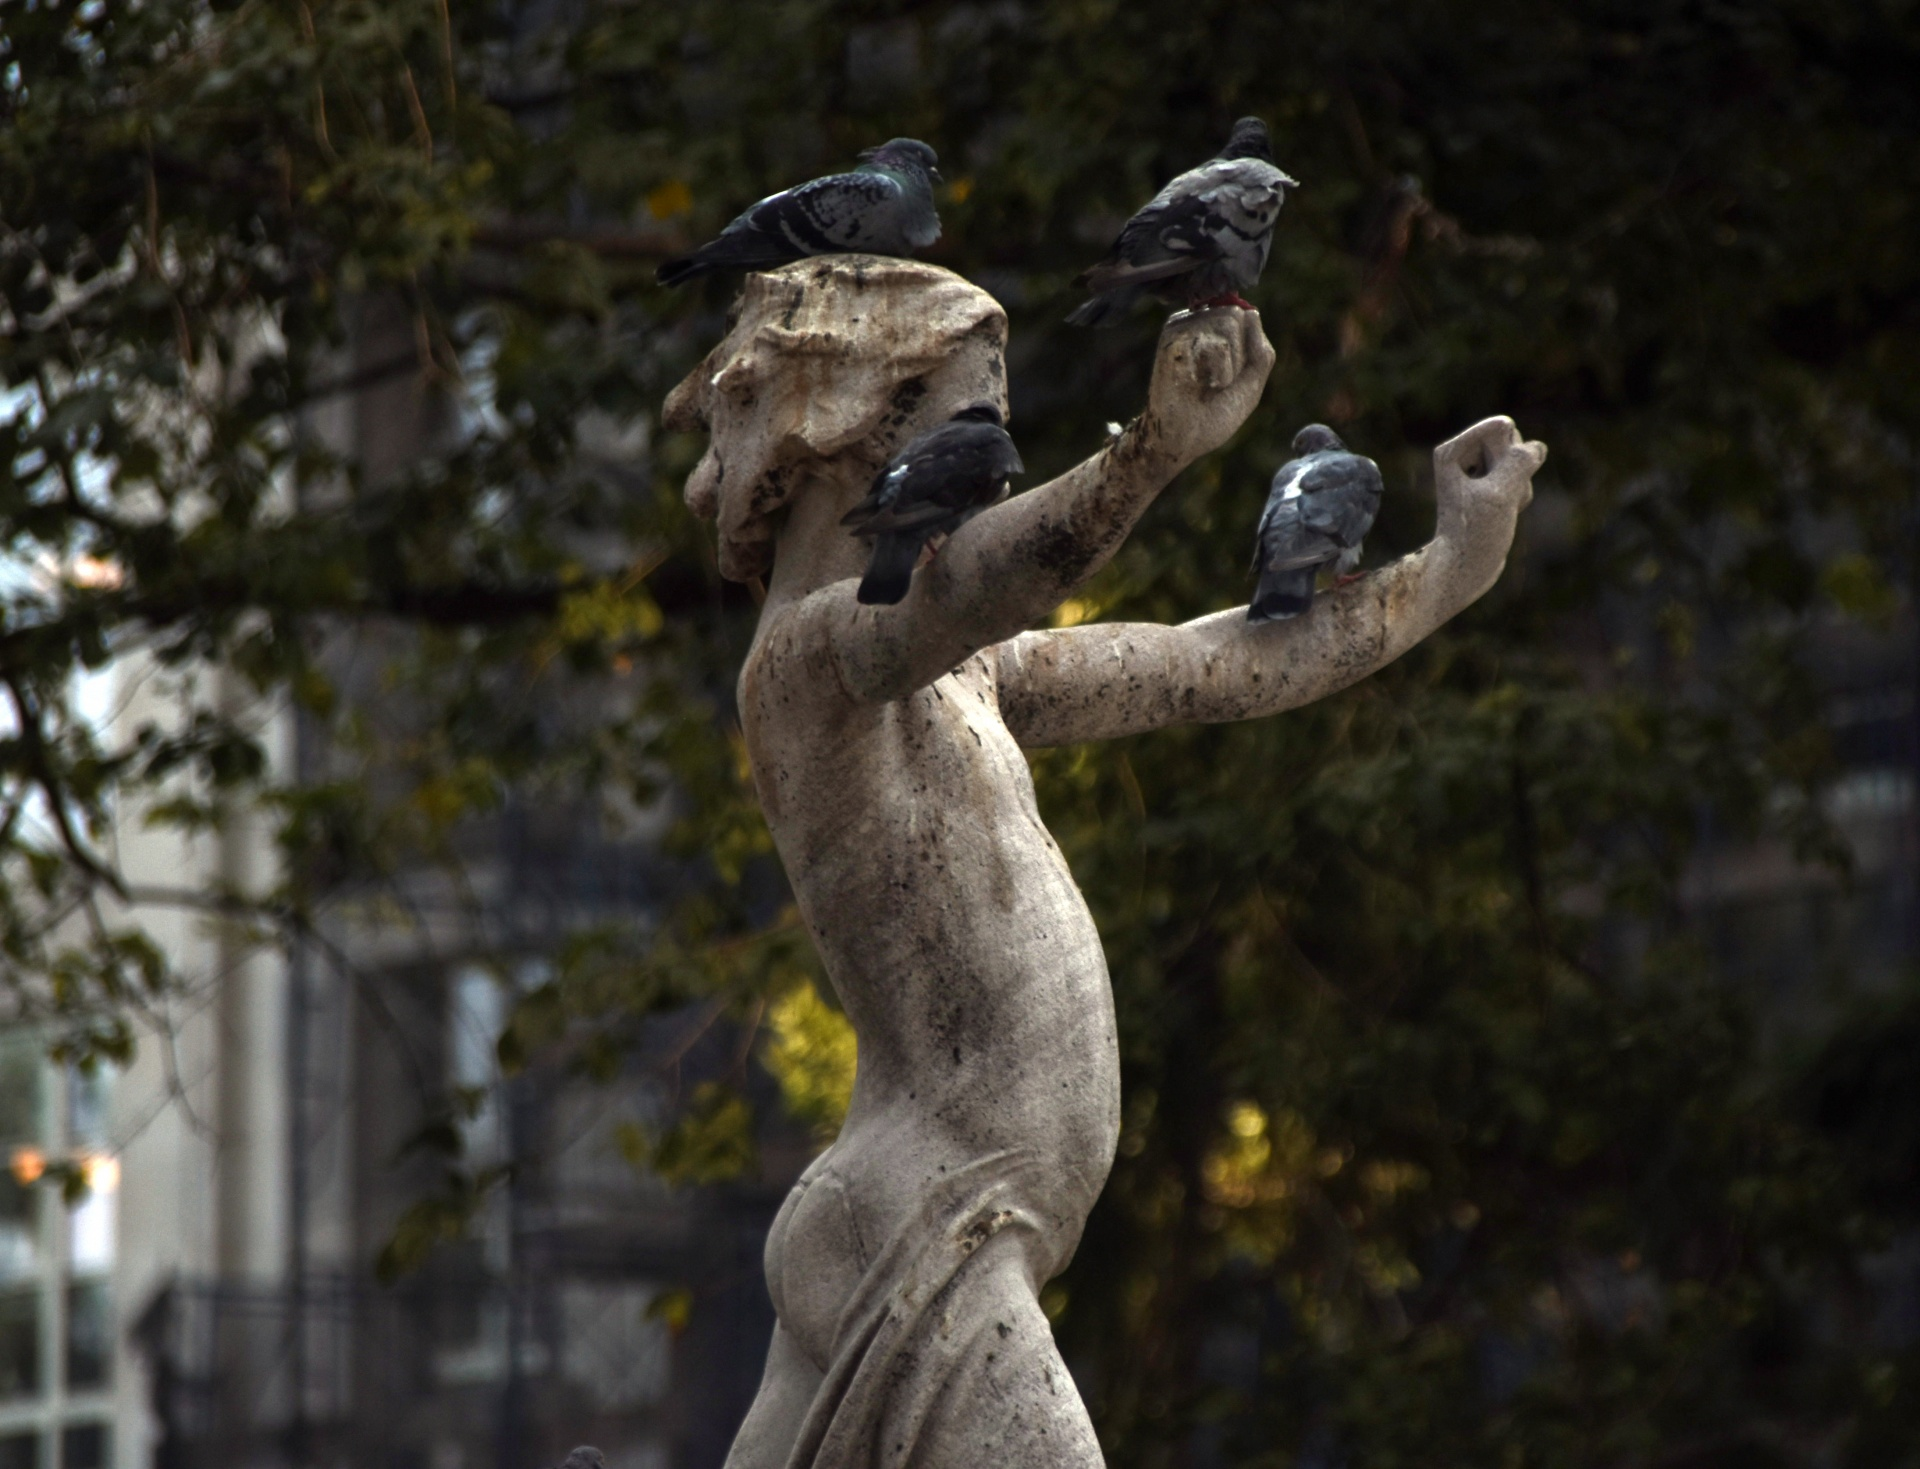Flying Rat: (653, 134, 982, 272), (1087, 114, 1301, 321), (844, 397, 1026, 603), (1249, 427, 1378, 617)
